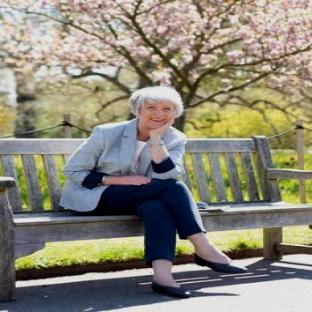Human: (61, 86, 246, 297)
